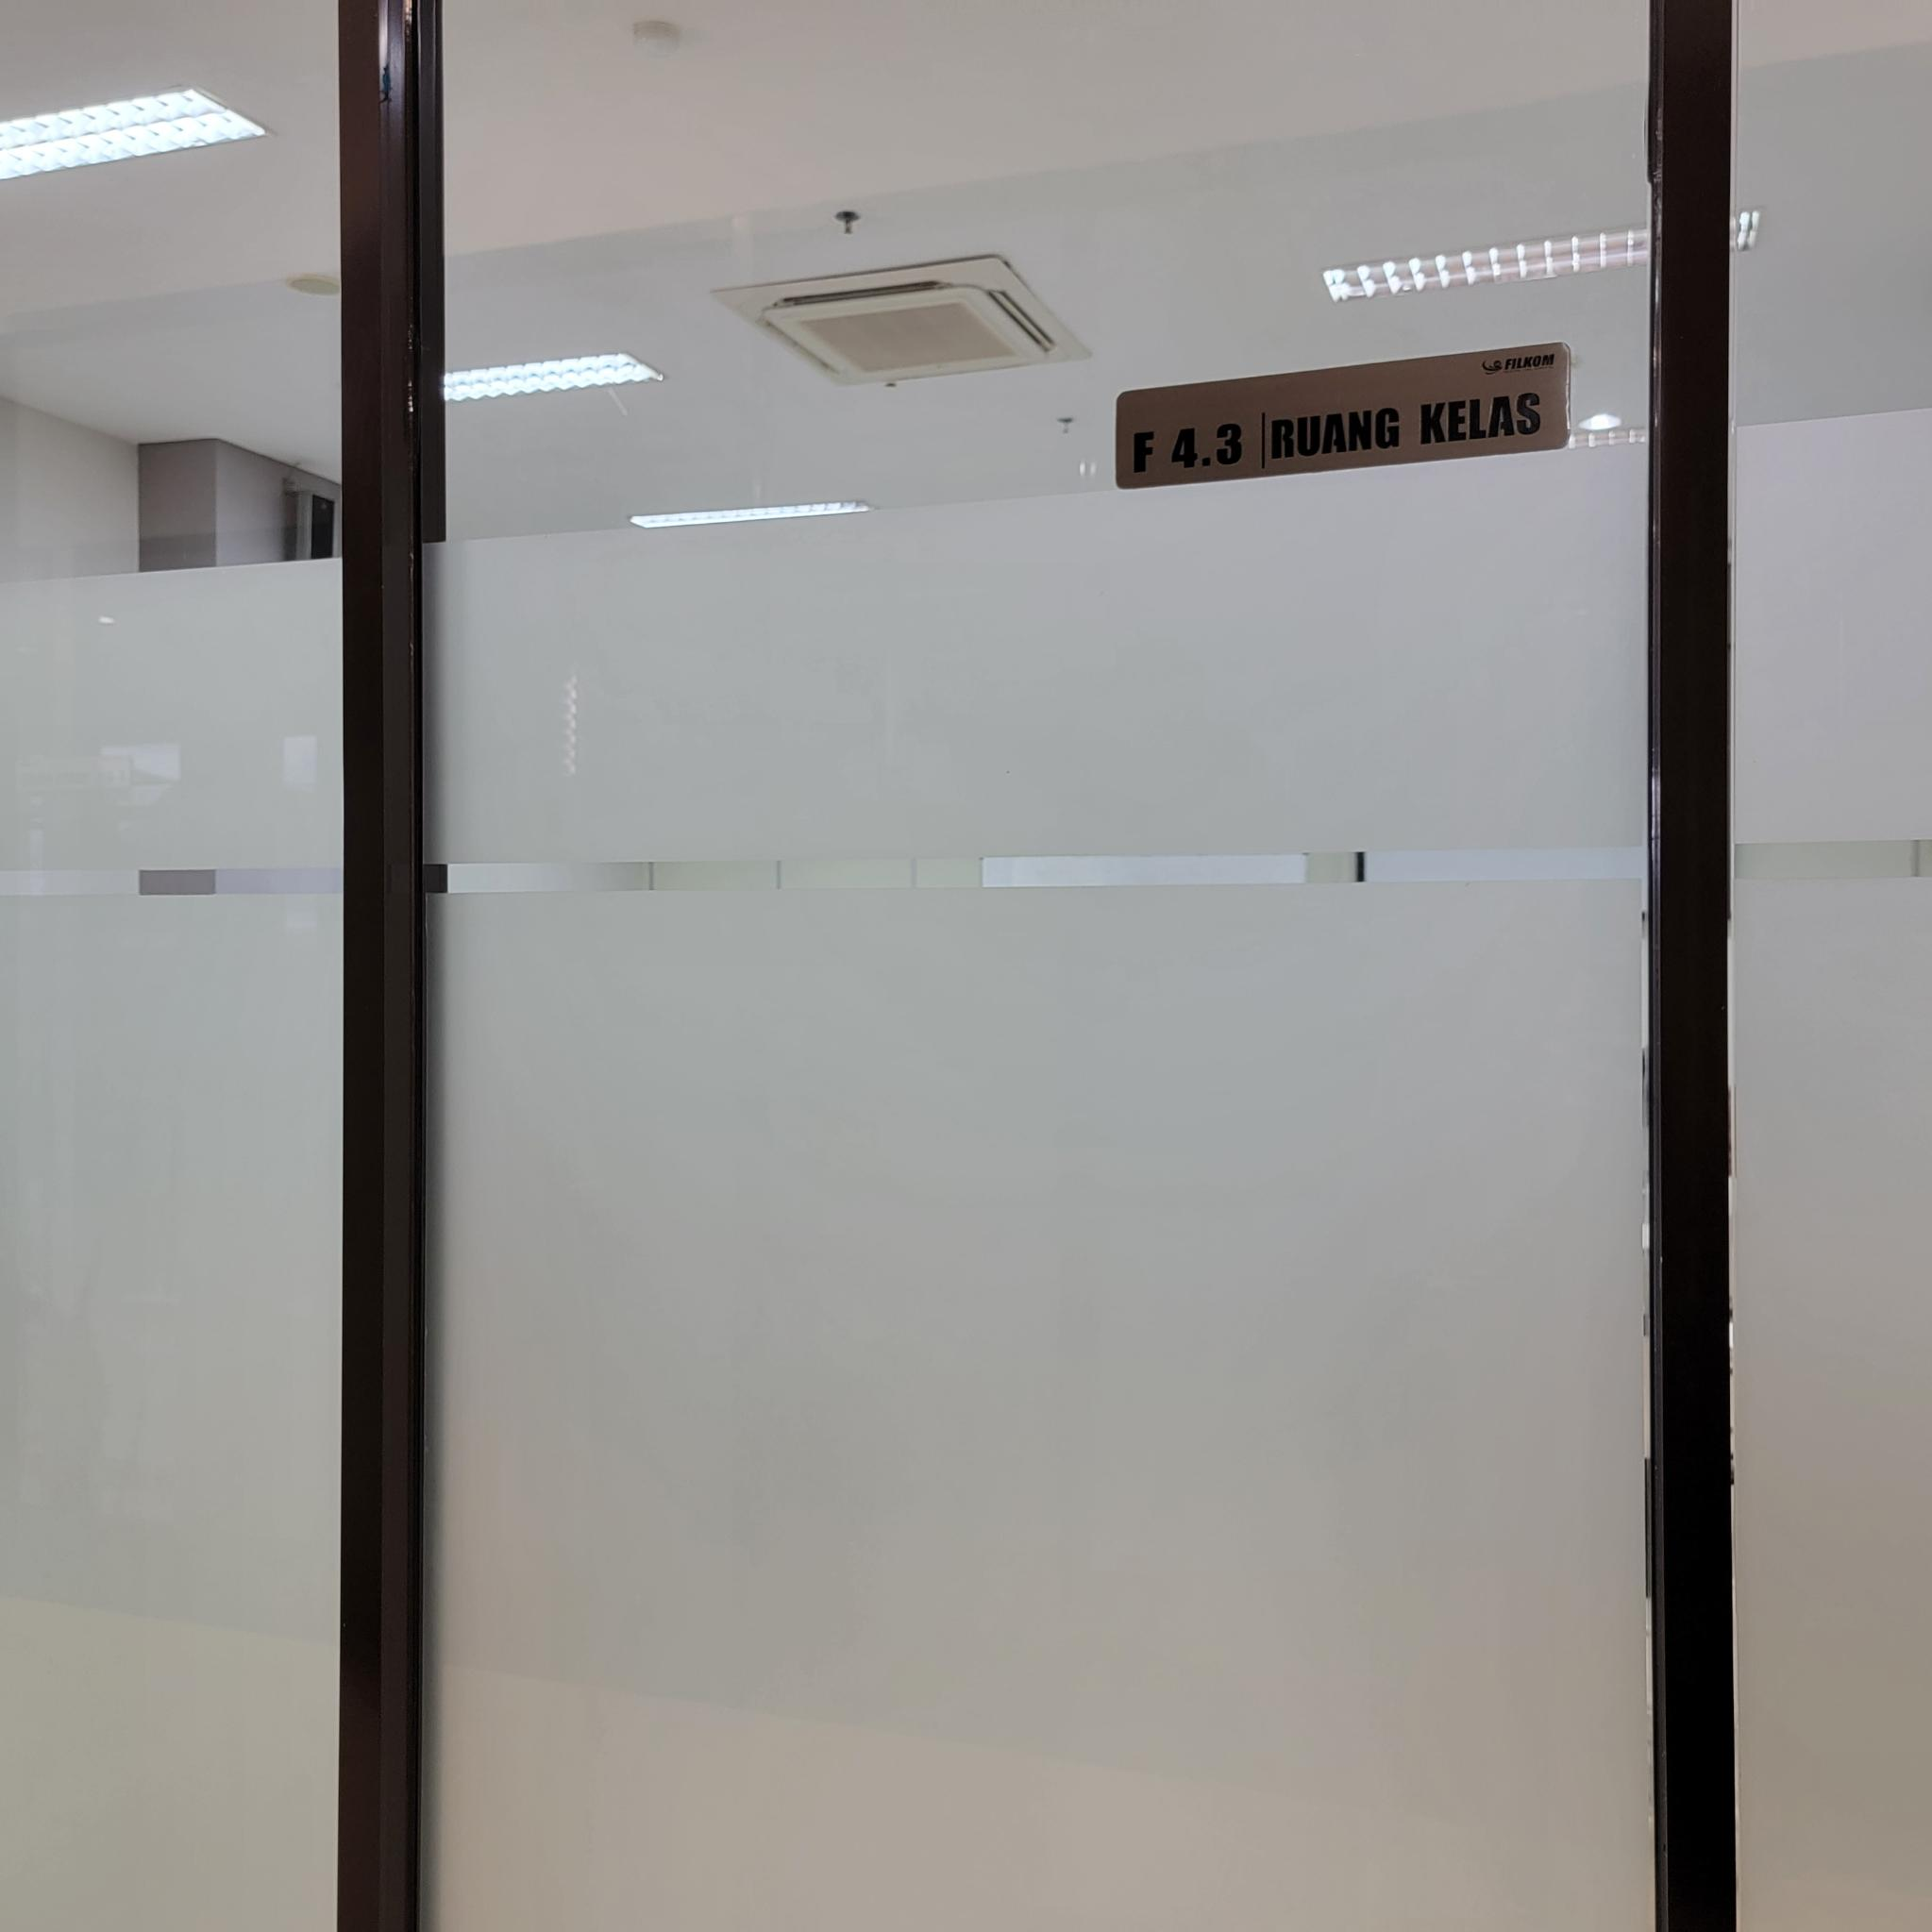plate: (1116, 341, 1573, 490)
